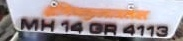character: (19, 18, 38, 31), (40, 18, 54, 32), (155, 24, 169, 38), (103, 22, 117, 35), (121, 23, 135, 36), (69, 21, 84, 33), (88, 22, 102, 34), (145, 24, 155, 38), (60, 19, 69, 32), (135, 24, 144, 36)
